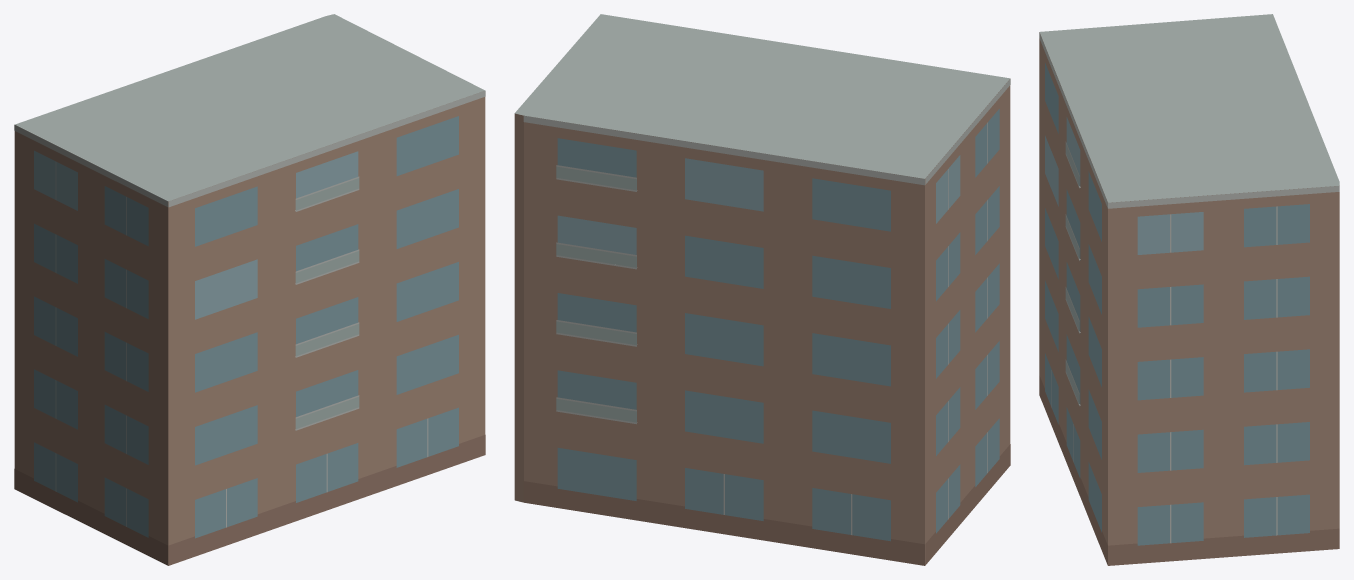
File: survey-upis-32881639.glb
3 renders of one model, left to right at view 1: azimuth 30°, elevation 25°; view 2: azimuth 150°, elevation 25°; view 3: azimuth 270°, elevation 25°, orthographic. The views are drawn at different scales.
Visible parts, largest first — view 1: survey-upis-32881639.tmp; view 2: survey-upis-32881639.tmp; view 3: survey-upis-32881639.tmp.
Boxes of the visible parts, x1,y1,x2,y2 form: survey-upis-32881639.tmp: (14,14,485,565); survey-upis-32881639.tmp: (514,14,1010,565); survey-upis-32881639.tmp: (1039,14,1339,565).
Size of the model in its own units: 16.22 by 14.55 by 10.91.
